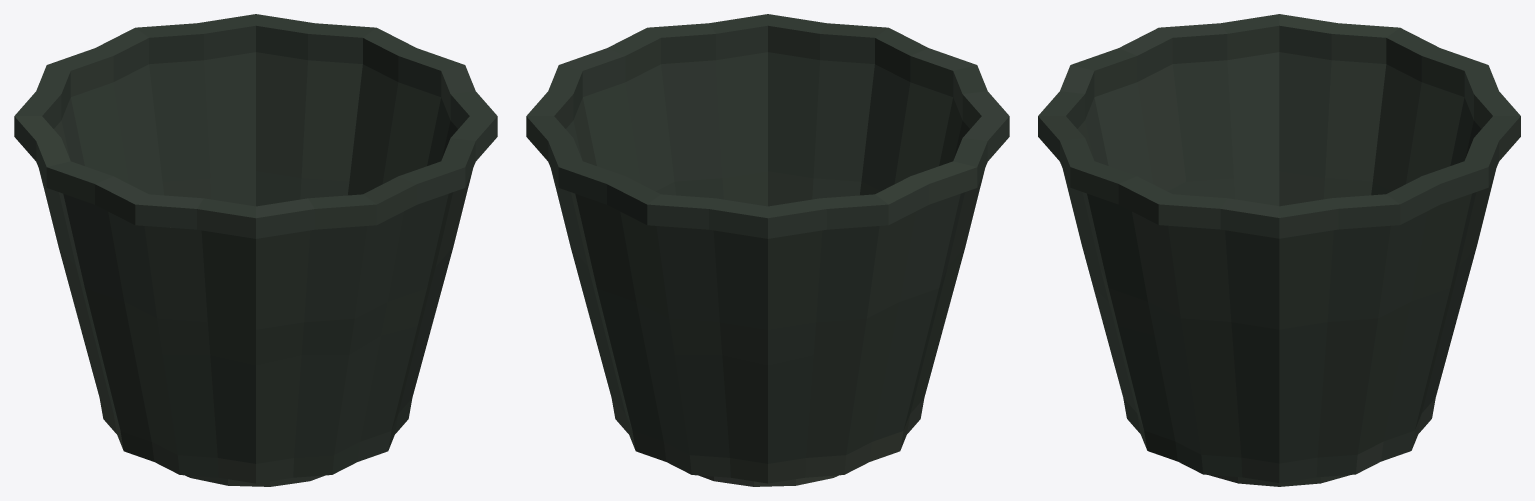
File: vessel-plastic.glb
The picture shows the model from 3 angles, left to right: view 1: azimuth 30°, elevation 25°; view 2: azimuth 150°, elevation 25°; view 3: azimuth 270°, elevation 25°; orthographic projection.
Visible parts, largest first — view 1: vessel-plastic/complete-inner-outer-shell-with-drainage, vessel-plastic/complete-open-foot-ring; view 2: vessel-plastic/complete-inner-outer-shell-with-drainage, vessel-plastic/complete-open-foot-ring; view 3: vessel-plastic/complete-inner-outer-shell-with-drainage, vessel-plastic/complete-open-foot-ring.
Boxes of the visible parts, <box> form: vessel-plastic/complete-inner-outer-shell-with-drainage: <box>14,14,497,483</box>; vessel-plastic/complete-open-foot-ring: <box>185,475,325,486</box>; vessel-plastic/complete-inner-outer-shell-with-drainage: <box>526,14,1009,483</box>; vessel-plastic/complete-open-foot-ring: <box>698,475,838,486</box>; vessel-plastic/complete-inner-outer-shell-with-drainage: <box>1038,14,1520,482</box>; vessel-plastic/complete-open-foot-ring: <box>1209,475,1349,486</box>.
Bounding box in the file's own units: 0.2328 × 0.173 × 0.2328.
1 material, 1 textured.
